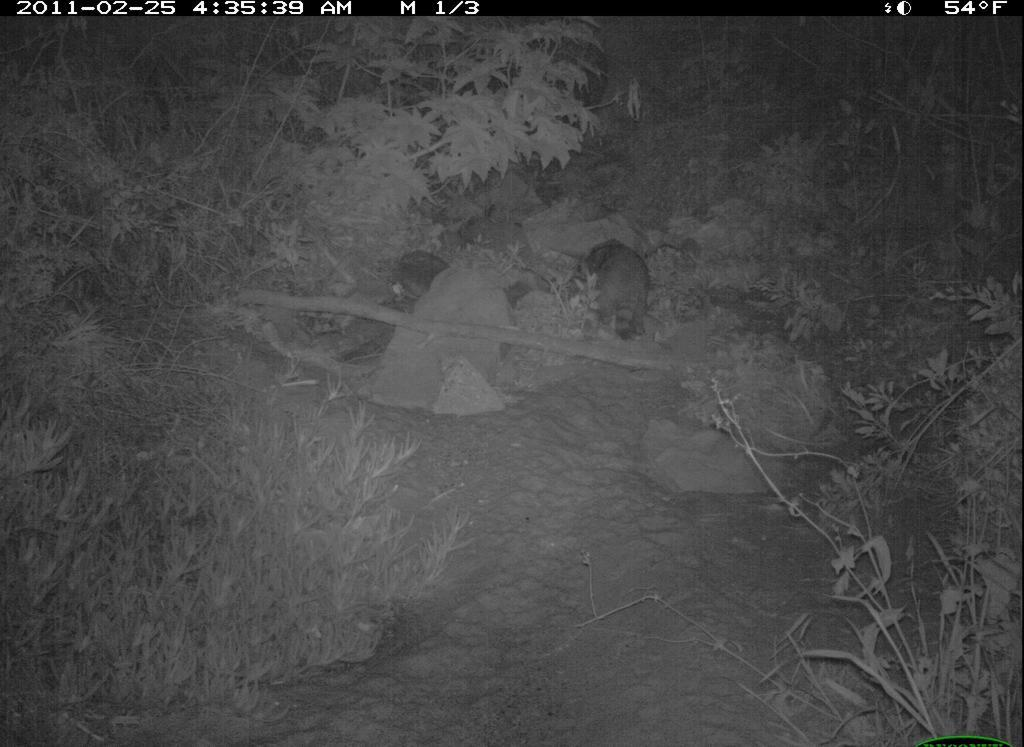raccoon: (574, 237, 659, 354)
